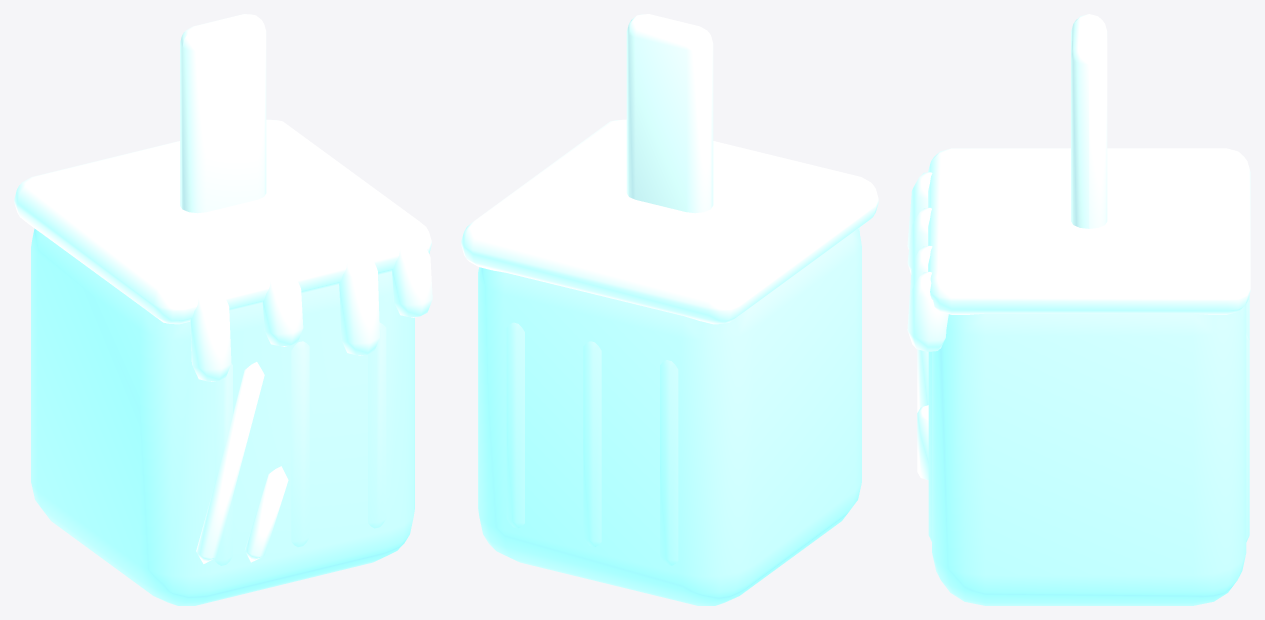
File: props__CandyIceCube.glb
3 views of the same model, side by side, from view 1: azimuth 30°, elevation 25°; view 2: azimuth 150°, elevation 25°; view 3: azimuth 270°, elevation 25° (orthographic).
Parts seen in each view (by area): view 1: CandyIceCube; view 2: CandyIceCube; view 3: CandyIceCube.
Part boxes in pixels (x1=…): CandyIceCube: x1=14, y1=14, x2=432, y2=605; CandyIceCube: x1=461, y1=14, x2=878, y2=605; CandyIceCube: x1=907, y1=14, x2=1250, y2=605.
Size of the model in its own units: 5.75 by 10.4 by 6.11.
